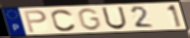1: (166, 4, 184, 28)
2: (130, 5, 156, 30)
C: (50, 8, 78, 32)
G: (77, 8, 104, 32)
P: (22, 10, 48, 34)
U: (100, 6, 128, 30)
